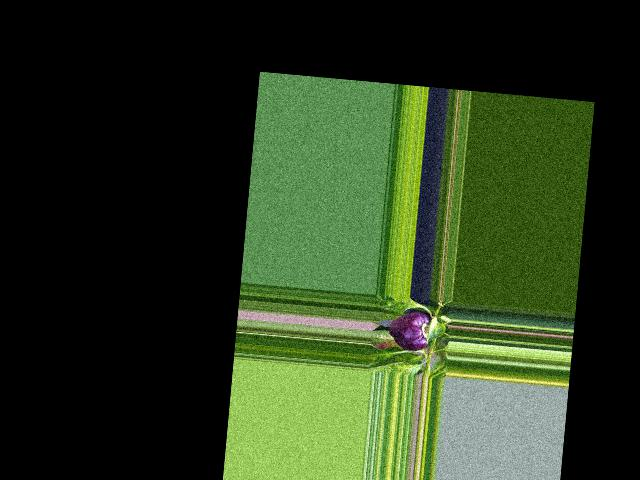bell_pepper: (385, 309, 435, 353)
